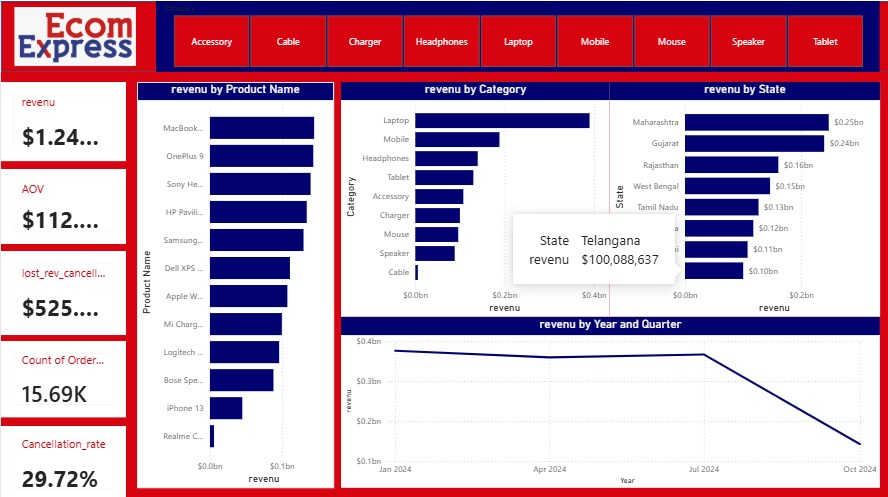

This screenshot's page, from the dashboard's own definition file:
{"tool":"powerbi","page":{"name":"Page 1","canvas":[1280,720],"ordinal":0},"visuals":[{"type":"shape","box":[0,0,1280.5,102.4],"z":0},{"type":"image","box":[17.6,8.8,178.5,84.9],"z":1000},{"type":"shape","box":[0,102.4,180,617.6],"z":2000},{"type":"barChart","fields":{"Y":["Table.revenu"],"Category":["Products.Product Name"]},"box":[195.8,116.6,283.7,584.6],"z":3000},{"type":"barChart","fields":{"Y":["Table.revenu"],"Category":["Products.Category"]},"box":[489.6,116.6,387.4,338.4],"z":4000},{"type":"lineChart","fields":{"Category":["Orders.Date and time of purchase.Variation.Date Hierarchy.Year","Orders.Date and time of purchase.Variation.Date Hierarchy.Quarter","Orders.Date and time of purchase.Variation.Date Hierarchy.Month","Orders.Date and time of purchase.Variation.Date Hierarchy.Day"],"Y":["Table.revenu"]},"box":[489.6,455,776.2,246.2],"z":5000},{"type":"barChart","fields":{"Y":["Table.revenu"],"Category":["Customers.State"]},"box":[877,116.6,388.8,338.4],"z":6000},{"type":"slicer","fields":{"Values":["Products.Category"]},"box":[223.9,0,1042,102.4],"z":7000},{"type":"cardVisual","fields":{"Data":["Table.revenu"]},"box":[0,117.1,180,114.1],"z":8000},{"type":"cardVisual","fields":{"Data":["Table.AOV"]},"box":[0,241.5,180,108.3],"z":9000},{"type":"cardVisual","fields":{"Data":["Table.lost_rev_cancellation"]},"box":[0,360,180,121.5],"z":10000},{"type":"cardVisual","fields":{"Data":["Table.Cancellation_rate"]},"box":[0,611.7,180,108.3],"z":10001},{"type":"cardVisual","fields":{"Data":["CountNonNull(Orders.OrderID)"]},"box":[0,490.2,180,109.8],"z":10002}]}

Visuals, with their boxes in screenshot pixels (x1, y1, x2, y2), scaled from the page's 1280x720 canvas onto the 888x497 screenshot:
shape: [left=0, top=0, right=887, bottom=71]
image: [left=12, top=6, right=136, bottom=65]
shape: [left=0, top=71, right=125, bottom=496]
barChart - Table.revenu x Products.Product Name: [left=136, top=80, right=333, bottom=484]
barChart - Table.revenu x Products.Category: [left=340, top=80, right=608, bottom=314]
lineChart - Orders.Date and time of purchase.Variation.Date Hierarchy.Year x Orders.Date and time of purchase.Variation.Date Hierarchy.Quarter: [left=340, top=314, right=878, bottom=484]
barChart - Table.revenu x Customers.State: [left=608, top=80, right=878, bottom=314]
slicer - Products.Category: [left=155, top=0, right=878, bottom=71]
cardVisual - Table.revenu: [left=0, top=81, right=125, bottom=160]
cardVisual - Table.AOV: [left=0, top=167, right=125, bottom=241]
cardVisual - Table.lost_rev_cancellation: [left=0, top=248, right=125, bottom=332]
cardVisual - Table.Cancellation_rate: [left=0, top=422, right=125, bottom=496]
cardVisual - CountNonNull(Orders.OrderID): [left=0, top=338, right=125, bottom=414]
